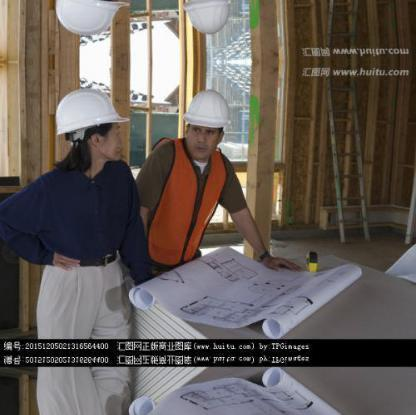helmet: (54, 86, 136, 142), (183, 87, 234, 135)
